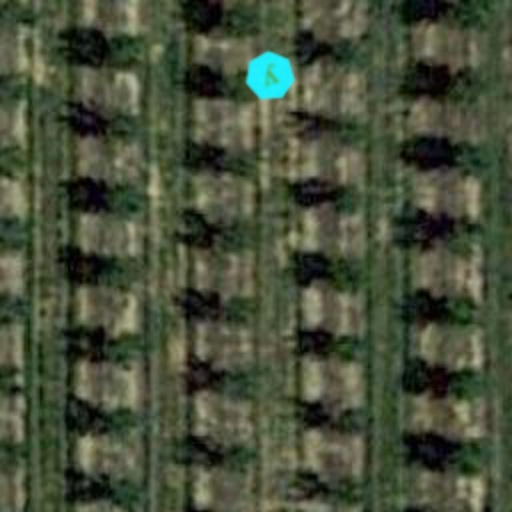heptagon: (238, 44, 302, 108)
